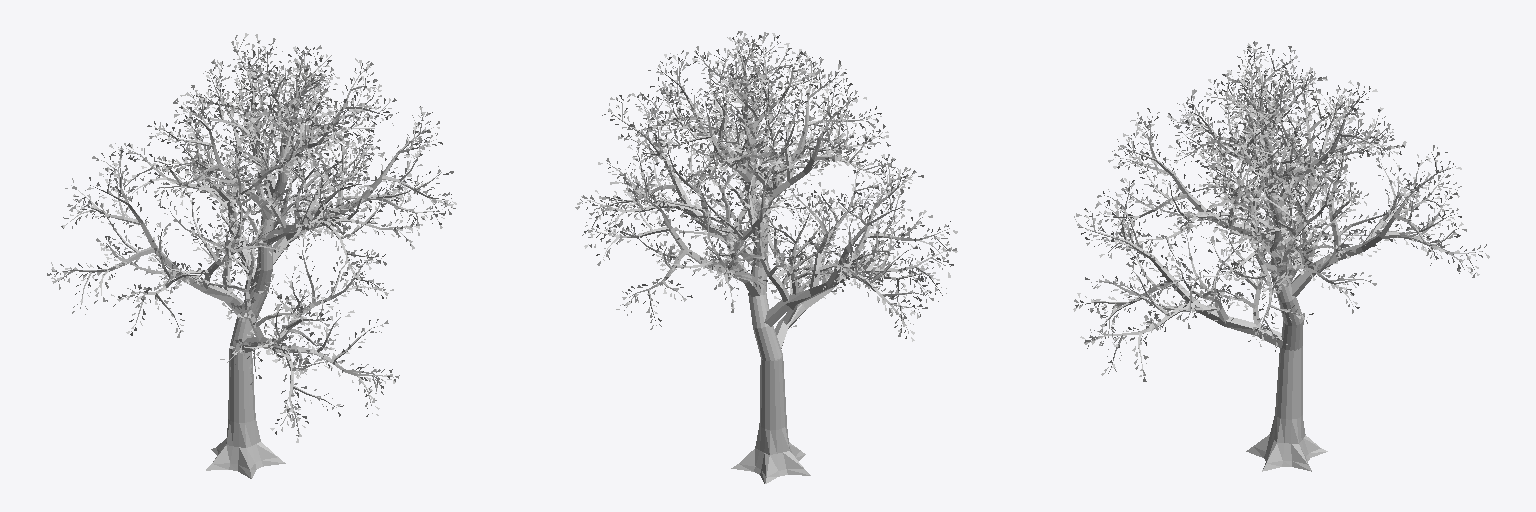
File: tree.obj
3 views of the same model, side by side, from view 1: azimuth 30°, elevation 25°; view 2: azimuth 150°, elevation 25°; view 3: azimuth 270°, elevation 25° (orthographic).
Visible parts, largest first — view 1: leaves, branches, trunk; view 2: leaves, branches, trunk; view 3: leaves, branches, trunk.
Boxes of the visible parts, box(x1,y1,x2,y2) form: leaves: box(47, 33, 456, 442); branches: box(54, 42, 451, 433); trunk: box(206, 348, 285, 478); leaves: box(575, 31, 957, 341); branches: box(582, 37, 949, 360); trunk: box(731, 358, 810, 483); leaves: box(1073, 41, 1489, 381); branches: box(1080, 48, 1482, 374); trunk: box(1246, 346, 1327, 471).
Size of the model in its own units: 3.25 by 3.53 by 3.27.